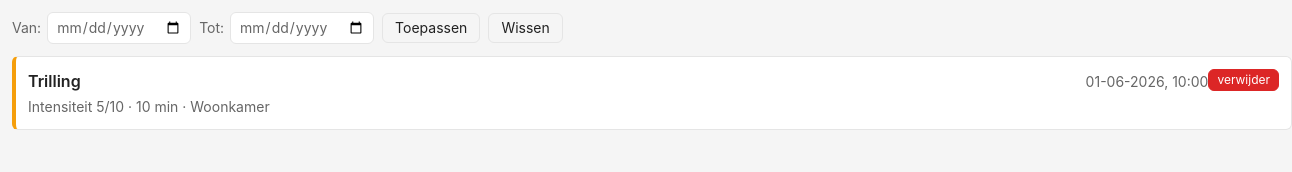
Test case: LogList › delete button removes the entry from the list and the store
Click the button "verwijder" at x=1244, y=80, box [1208, 69, 1279, 91]
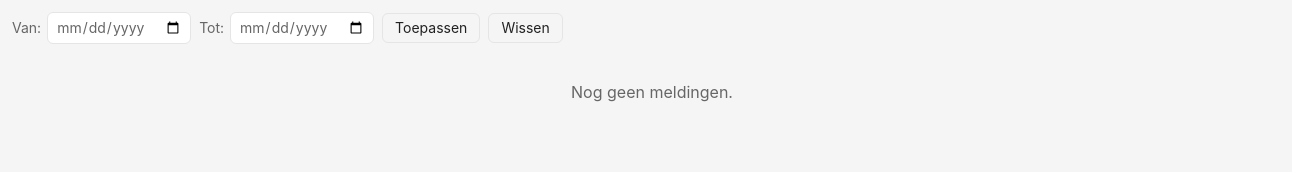
Check: no elements with test id "log-item" are shown
